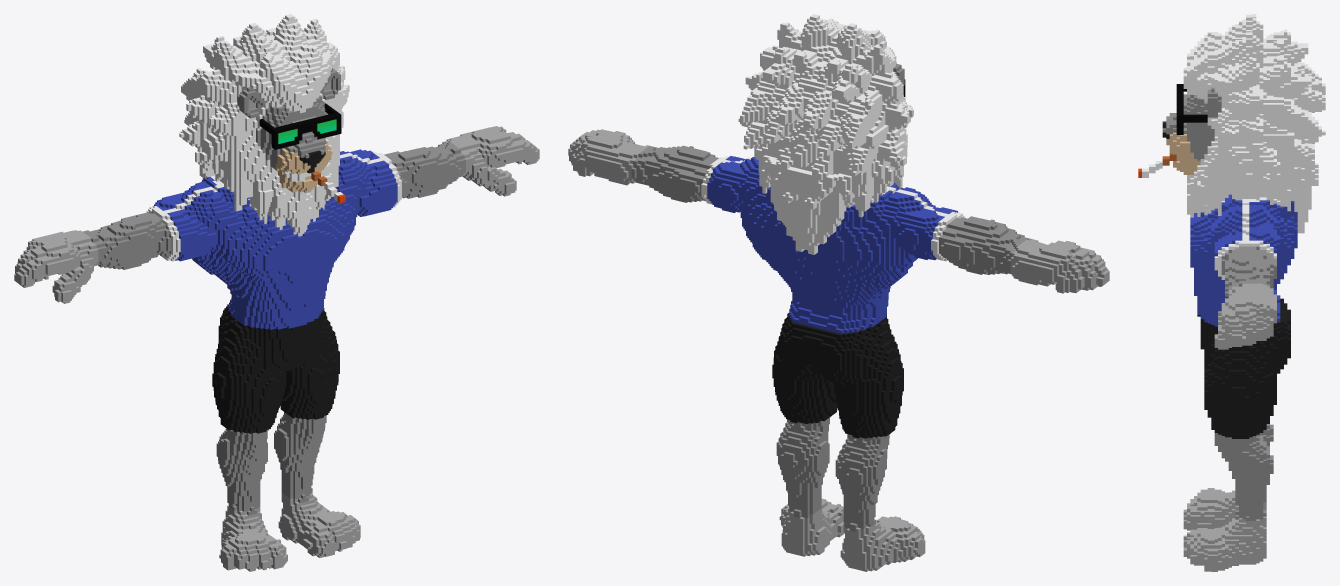
The model's file is 500-CZpSeqoH.glb.
The picture shows the model from 3 angles, left to right: view 1: azimuth 30°, elevation 25°; view 2: azimuth 150°, elevation 25°; view 3: azimuth 270°, elevation 25°; orthographic projection. The views are drawn at different scales.
Parts seen in each view (by area): view 1: cigarette; view 2: cigarette; view 3: cigarette.
Part boxes in pixels (<box>): cigarette: <box>14,14,539,571</box>; cigarette: <box>568,14,1109,571</box>; cigarette: <box>1138,14,1325,571</box>.
Size of the model in its own units: 17.2 by 16.5 by 5.4.
Materials: 5 (5 with a texture image).
